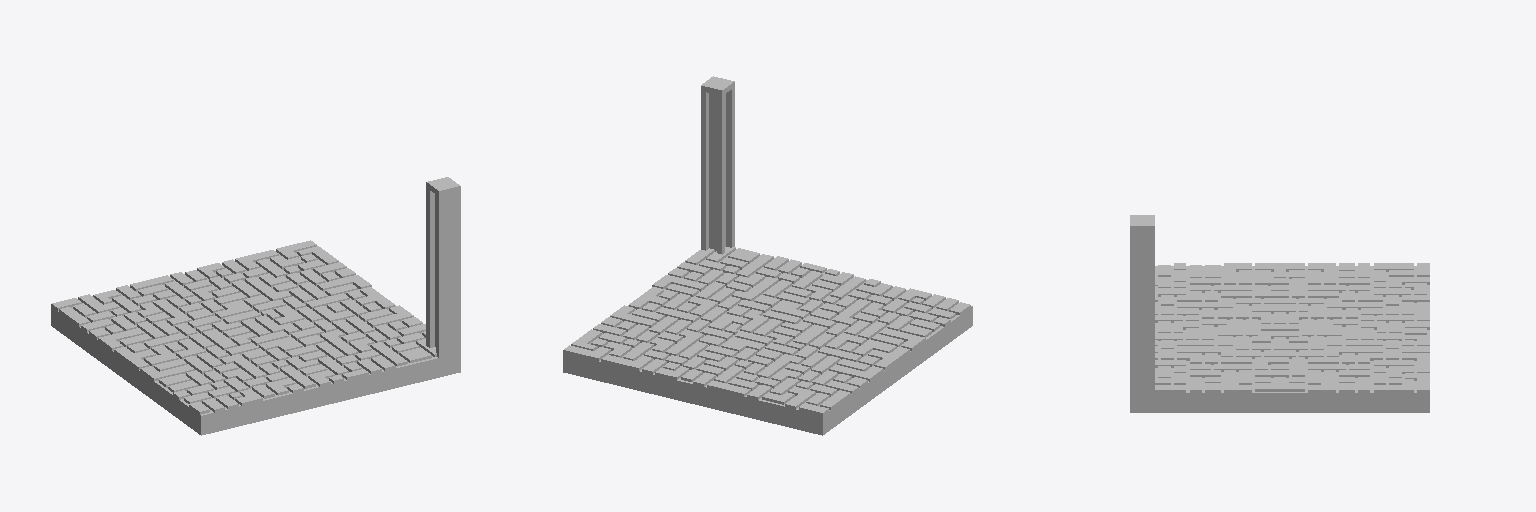
File: CityCornerCutoffInner-0.obj
3 views of the same model, side by side, from view 1: azimuth 30°, elevation 25°; view 2: azimuth 150°, elevation 25°; view 3: azimuth 270°, elevation 25° (orthographic).
Parts seen in each view (by area): view 1: object 1; view 2: object 1; view 3: object 1.
Part boxes in pixels (bbox=[...]): object 1: bbox=[51, 177, 460, 435]; object 1: bbox=[563, 76, 972, 435]; object 1: bbox=[1130, 215, 1429, 412].
Size of the model in its own units: 9.6 by 6.6 by 9.6.